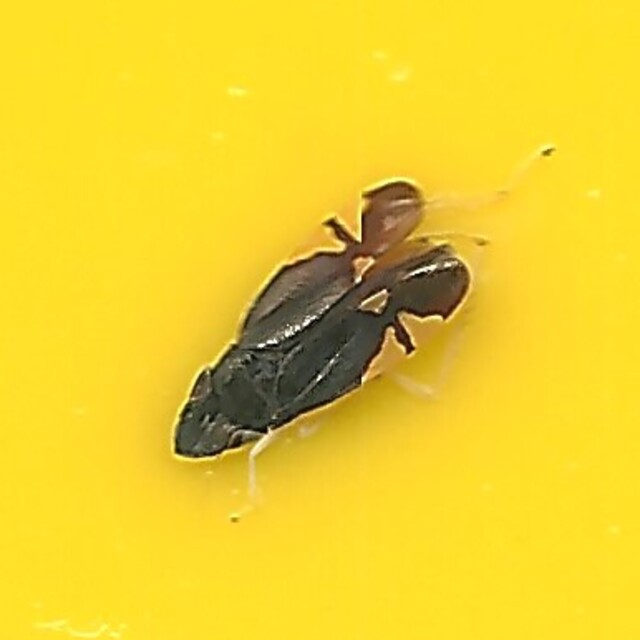Hemiptera: (166, 175, 474, 465)
